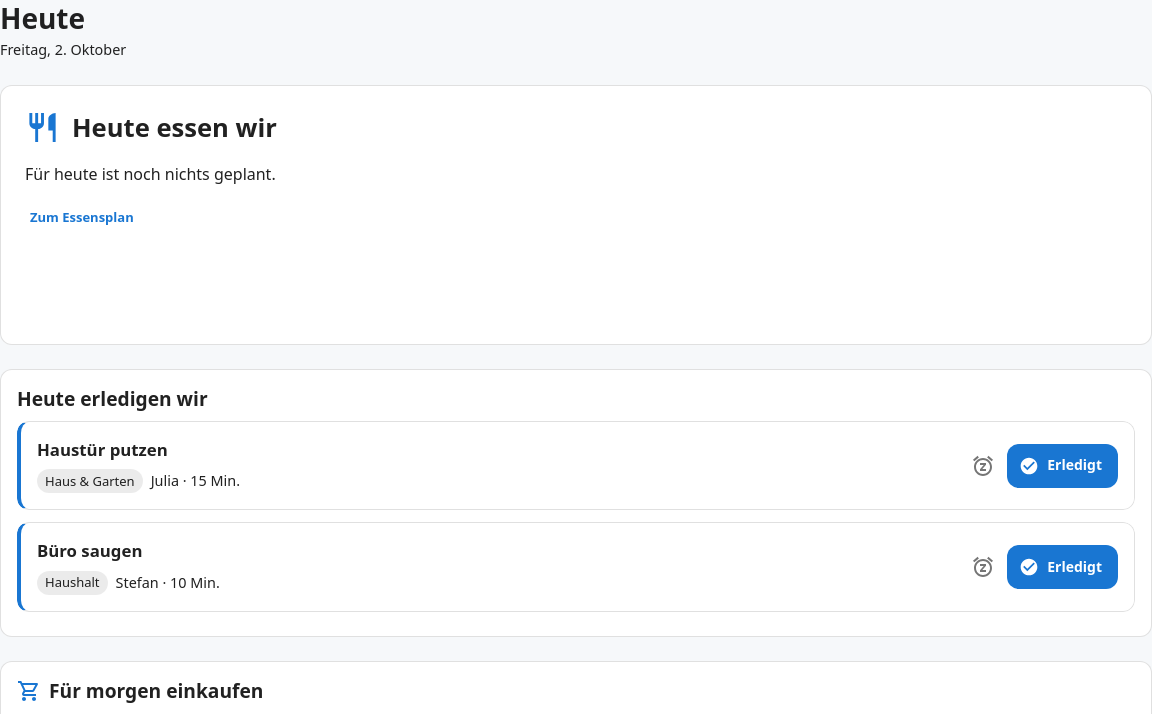
Test: Snooze on the dashboard › snoozes to a picked date
This screenshot has width=1152, height=714.
Click the button named "„Büro saugen“ verschieben": x=983, y=567 [963,547,1003,587]
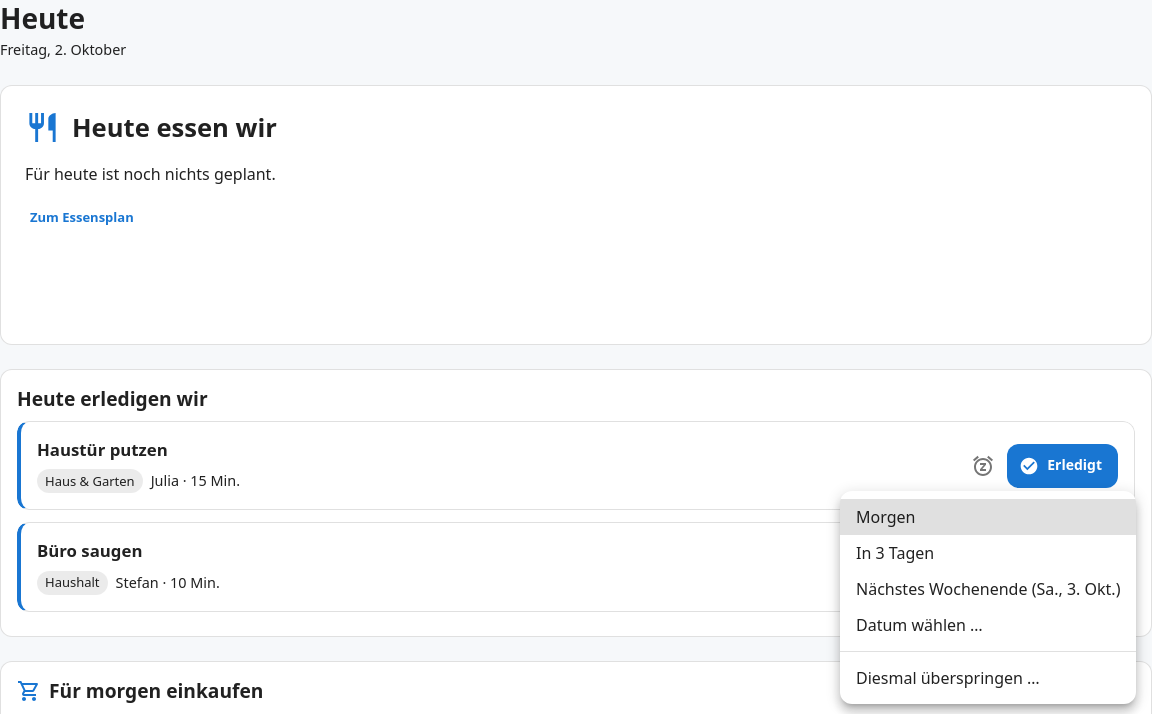
Click the menu item "Datum wählen …": x=919, y=625 [856,614,983,636]
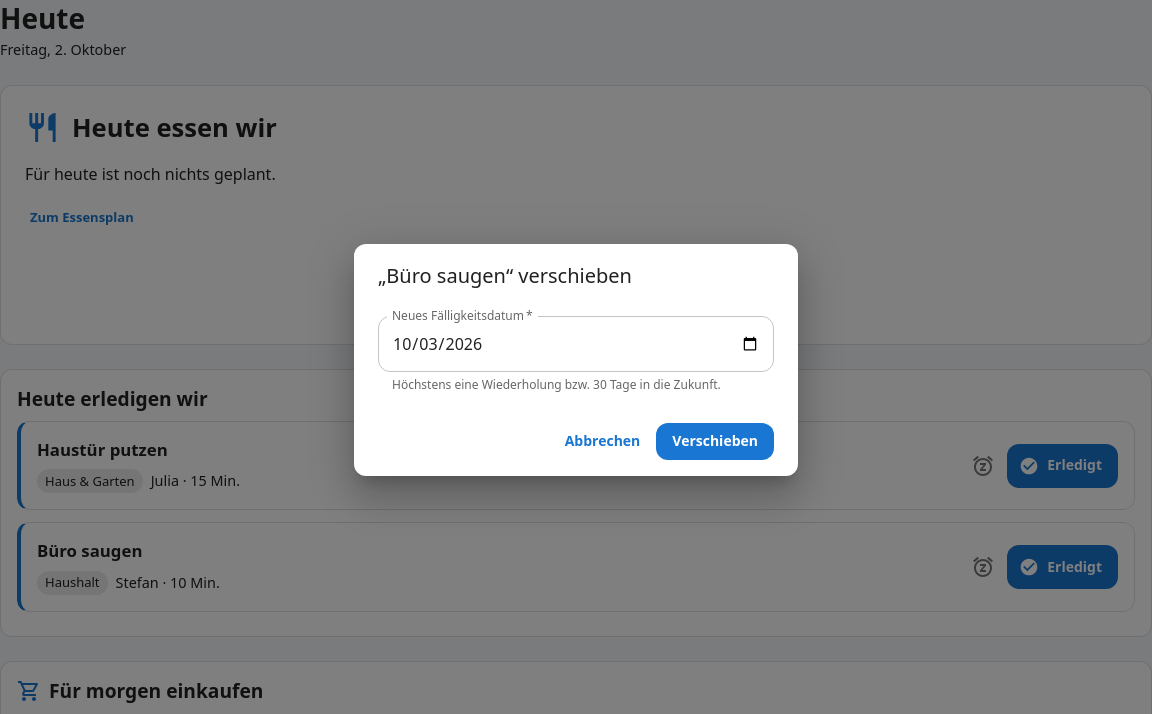
Expected: the date field labelled "Neues Fälligkeitsdatum *" holds "2026-10-03"
In the date field labelled "Neues Fälligkeitsdatum *": x=576, y=344 [378,316,774,372], type "2026-10-09"
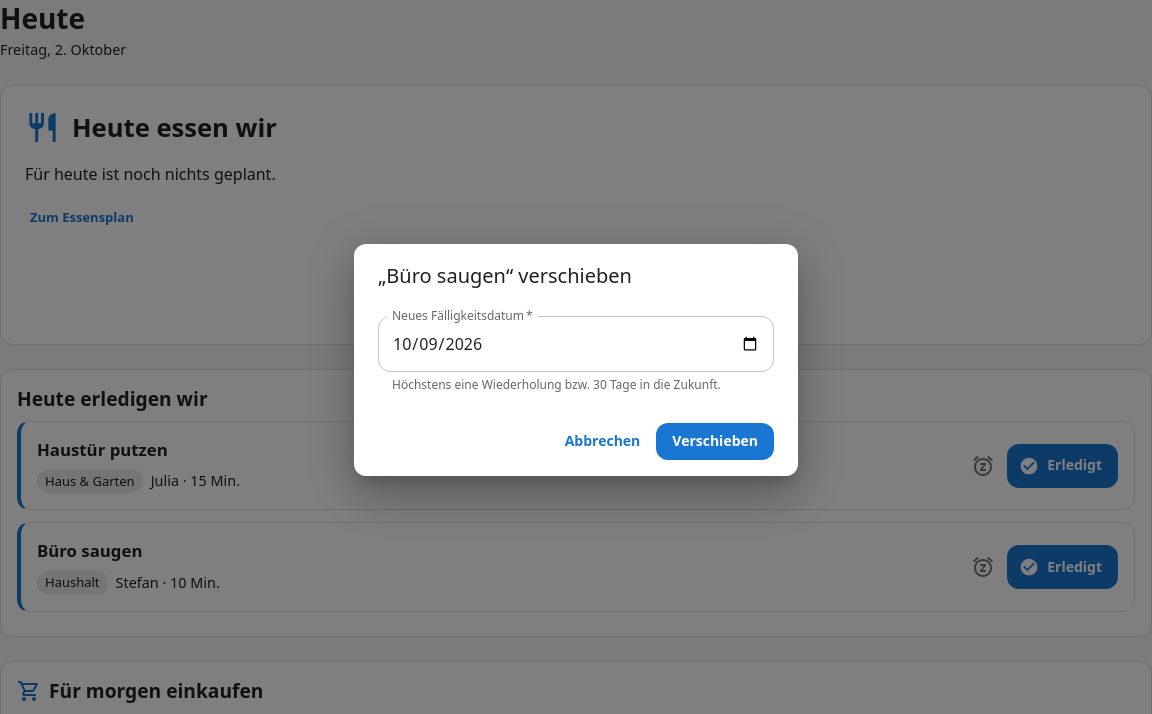
Click the button "Verschieben": x=715, y=441 [656,423,774,460]
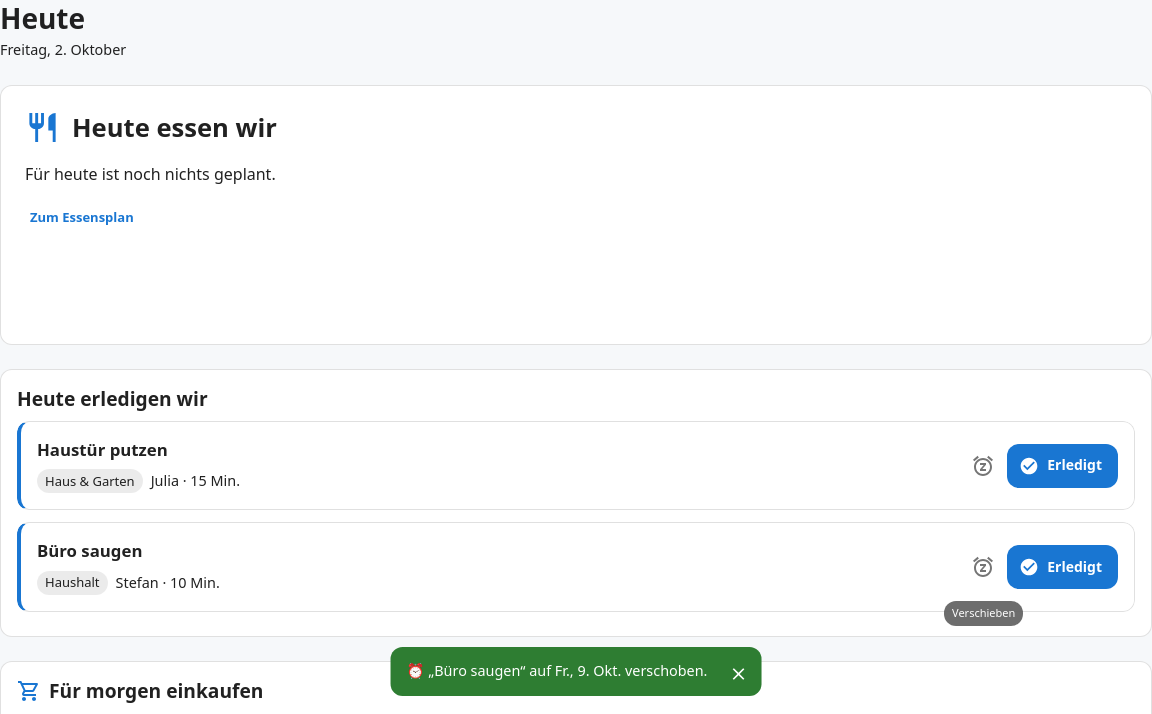
Expected: the dialog is gone
